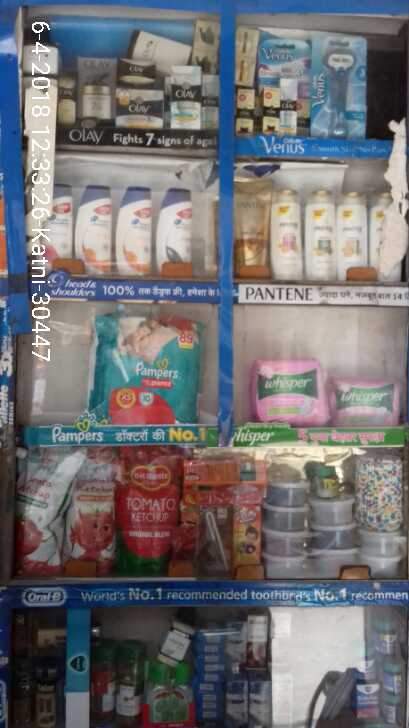venus: (315, 31, 368, 137), (260, 38, 310, 76)
